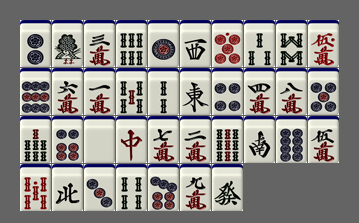0m: (308, 20, 339, 67)
0p: (212, 20, 243, 67)
0s: (20, 164, 51, 211)
1m: (84, 68, 115, 115)
1p: (148, 20, 179, 67)
1s: (52, 20, 83, 67)
1z: (180, 68, 211, 115)
2m: (180, 116, 211, 163)
2p: (20, 20, 51, 67)
2s: (148, 68, 179, 115)
2z: (244, 116, 275, 163)
3m: (84, 20, 115, 67)
3p: (84, 164, 115, 211)
3s: (244, 20, 275, 67)
3z: (180, 20, 211, 67)
4m: (244, 68, 275, 115)
4p: (212, 68, 243, 115)
4s: (116, 164, 147, 211)
4z: (52, 164, 83, 211)
5m: (308, 116, 339, 163)
5p: (308, 68, 339, 115)
5s: (116, 68, 147, 115)
5z: (84, 116, 115, 163)
6m: (52, 68, 83, 115)
6p: (52, 116, 83, 163)
6s: (116, 20, 147, 67)
6z: (212, 164, 243, 211)
7m: (148, 116, 179, 163)
7p: (148, 164, 179, 211)
7s: (20, 116, 51, 163)
7z: (116, 116, 147, 163)
8m: (276, 68, 307, 115)
8p: (276, 116, 307, 163)
8s: (276, 20, 307, 67)
9m: (180, 164, 211, 211)
9p: (20, 68, 51, 115)
9s: (212, 116, 243, 163)
